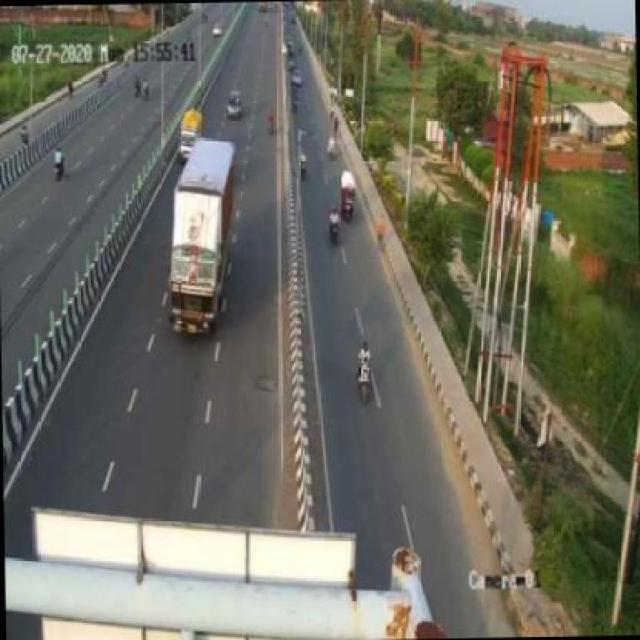car: (175, 109, 214, 157), (222, 84, 246, 124)
